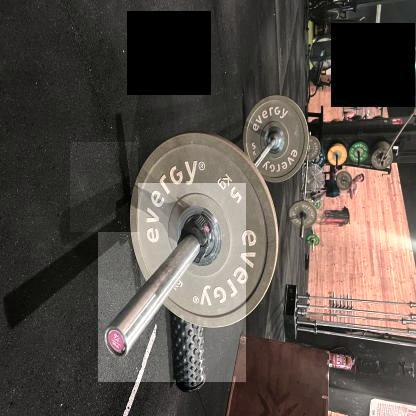barbell: (98, 183, 247, 382), (70, 143, 138, 232)
